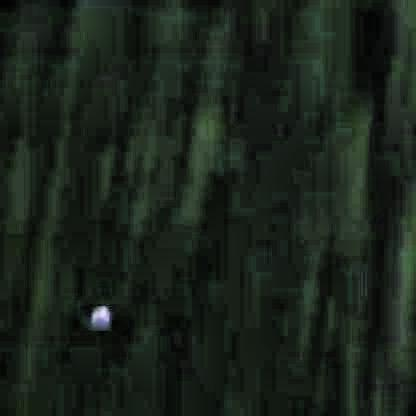golfball: (88, 300, 110, 325)
